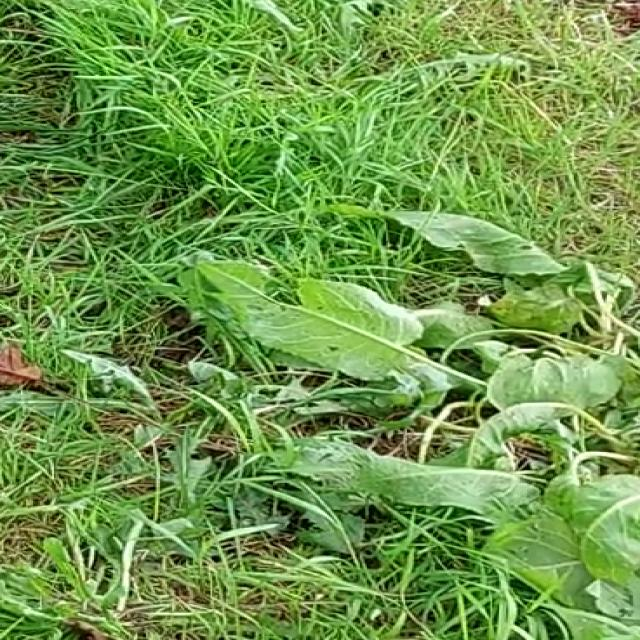organic waste: (195, 224, 640, 640)
